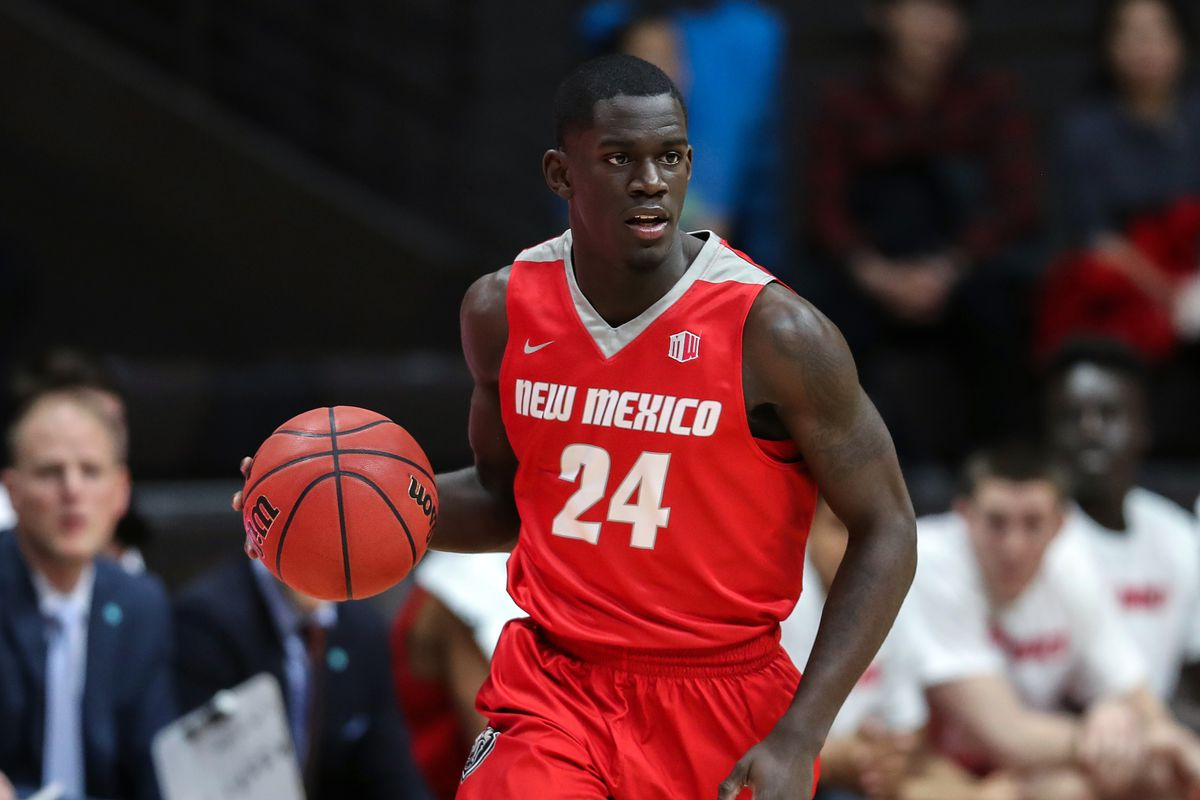ball: (229, 385, 455, 618)
breakthrough: (211, 42, 930, 800)
